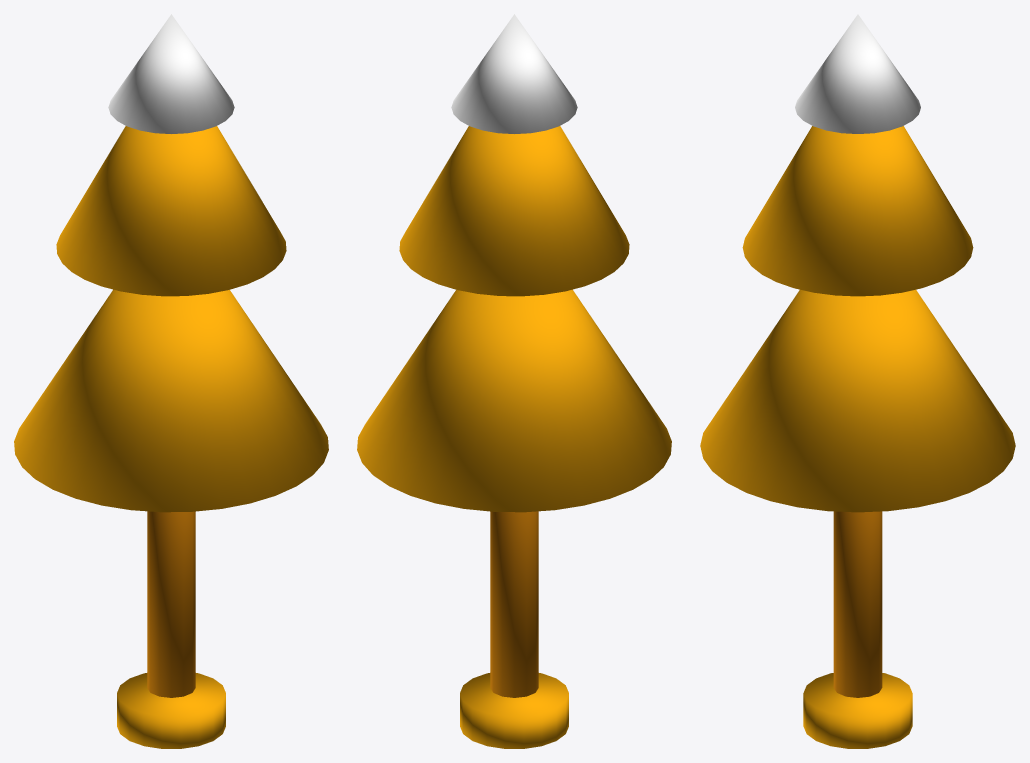
The model's file is prop_tree_yellow.glb.
3 views of the same model, side by side, from view 1: azimuth 30°, elevation 25°; view 2: azimuth 150°, elevation 25°; view 3: azimuth 270°, elevation 25° (orthographic).
Visible parts, largest first — view 1: tree lower crown, tree upper crown, tree trunk, tree white cap, tree base; view 2: tree lower crown, tree upper crown, tree trunk, tree white cap, tree base; view 3: tree lower crown, tree upper crown, tree trunk, tree white cap, tree base.
Part boxes in pixels (box(x1,y1,x2,y2)): tree lower crown: box(14, 289, 328, 512); tree upper crown: box(56, 126, 286, 296); tree trunk: box(147, 511, 195, 697); tree white cap: box(108, 14, 234, 133); tree base: box(117, 673, 225, 748); tree lower crown: box(357, 289, 671, 512); tree upper crown: box(399, 126, 629, 296); tree trunk: box(490, 511, 538, 697); tree white cap: box(451, 14, 577, 133); tree base: box(460, 673, 568, 748); tree lower crown: box(700, 289, 1015, 512); tree upper crown: box(742, 126, 973, 296); tree trunk: box(833, 511, 882, 697); tree white cap: box(795, 14, 920, 133); tree base: box(803, 673, 912, 748).
Bounding box in the file's own units: 0.26 × 0.6475 × 0.26.
